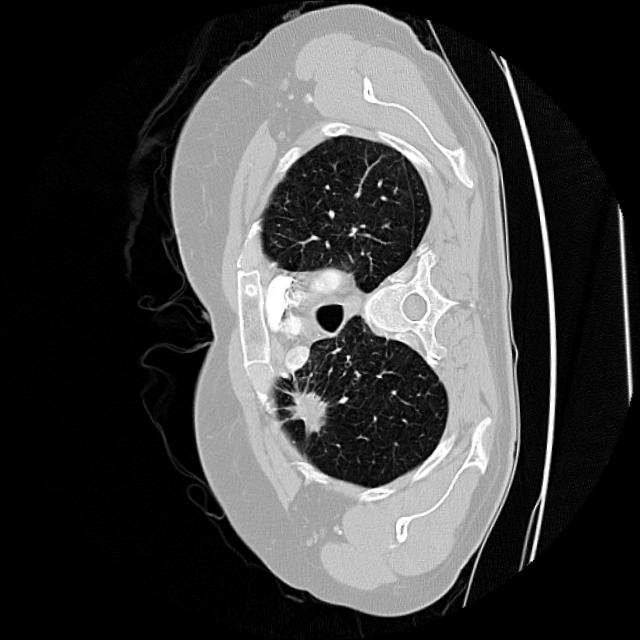nodule: (266, 370, 345, 450)
